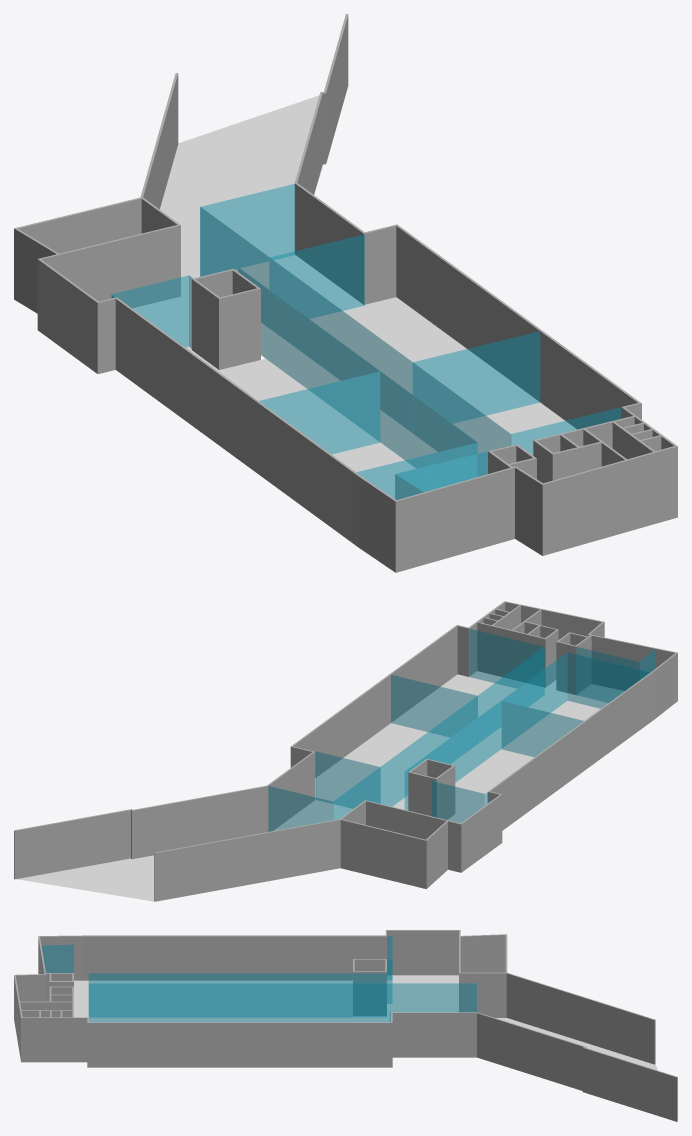
File: FRM_SCRATCH.glb
3 views of the same model, one above another, from view 1: azimuth 30°, elevation 25°; view 2: azimuth 150°, elevation 25°; view 3: azimuth 270°, elevation 25° (orthographic). The views are drawn at different scales.
Parts seen in each view (by area): view 1: Geom3D_ (×7), Geom3D_Component, Geom3D_Component110, Geom3D_Component87, Geom3D_Component114, Geom3D_Component91, Geom3D_Component93, Geom3D_Component120, Geom3D_Component74, Geom3D_Component81, Geom3D_Component113, Geom3D_Component80 (+21 smaller); view 2: Geom3D_ (×7), Geom3D_Component76, Geom3D_Component110, Geom3D_Component, Geom3D_Component87, Geom3D_Component83, Geom3D_Component114, Geom3D_Component79, Geom3D_Component72, Geom3D_Component120, Geom3D_Component89, Geom3D_Component119 (+20 smaller); view 3: Geom3D_ (×4), Geom3D_Component110, Geom3D_Component87, Geom3D_Component114, Geom3D_Component, Geom3D_Component76, Geom3D_Component83, Geom3D_Component79, Geom3D_Component84, Geom3D_Component73, Geom3D_Component90, Geom3D_Component75 (+9 smaller).
Boxes of the visible parts, x1,y1,x2,y2 form: Geom3D_ (×7): (132,95,576,499); Geom3D_Component: (115,297,359,546); Geom3D_Component110: (200,207,510,476); Geom3D_Component87: (396,225,641,429); Geom3D_Component114: (238,268,477,468); Geom3D_Component91: (541,446,675,555); Geom3D_Component93: (394,467,514,572); Geom3D_Component120: (413,331,539,423); Geom3D_Component74: (40,224,180,308); Geom3D_Component81: (200,184,295,276); Geom3D_Component113: (259,371,379,453); Geom3D_Component80: (269,234,364,318); Geom3D_ (×7): (17,671,624,901); Geom3D_Component76: (154,819,340,901); Geom3D_Component110: (333,647,544,819); Geom3D_Component: (487,670,654,830); Geom3D_Component87: (292,625,457,778); Geom3D_Component83: (133,785,269,858); Geom3D_Component114: (405,653,567,810); Geom3D_Component79: (14,809,130,879); Geom3D_Component72: (340,819,427,888); Geom3D_Component120: (391,675,477,737); Geom3D_Component89: (477,622,544,686); Geom3D_Component119: (469,629,544,688); Geom3D_ (×4): (74,975,657,1091); Geom3D_Component110: (89,983,476,1021); Geom3D_Component87: (87,1022,390,1067); Geom3D_Component114: (89,973,386,1017); Geom3D_Component: (82,935,386,980); Geom3D_Component76: (506,973,655,1064); Geom3D_Component83: (475,1012,584,1090); Geom3D_Component79: (584,1047,677,1121); Geom3D_Component84: (391,1012,476,1057); Geom3D_Component73: (387,930,460,975); Geom3D_Component90: (21,1017,87,1062); Geom3D_Component75: (460,972,506,1017).
Bounding box in the file's own units: 43.36 × 6.1 × 82.49.
